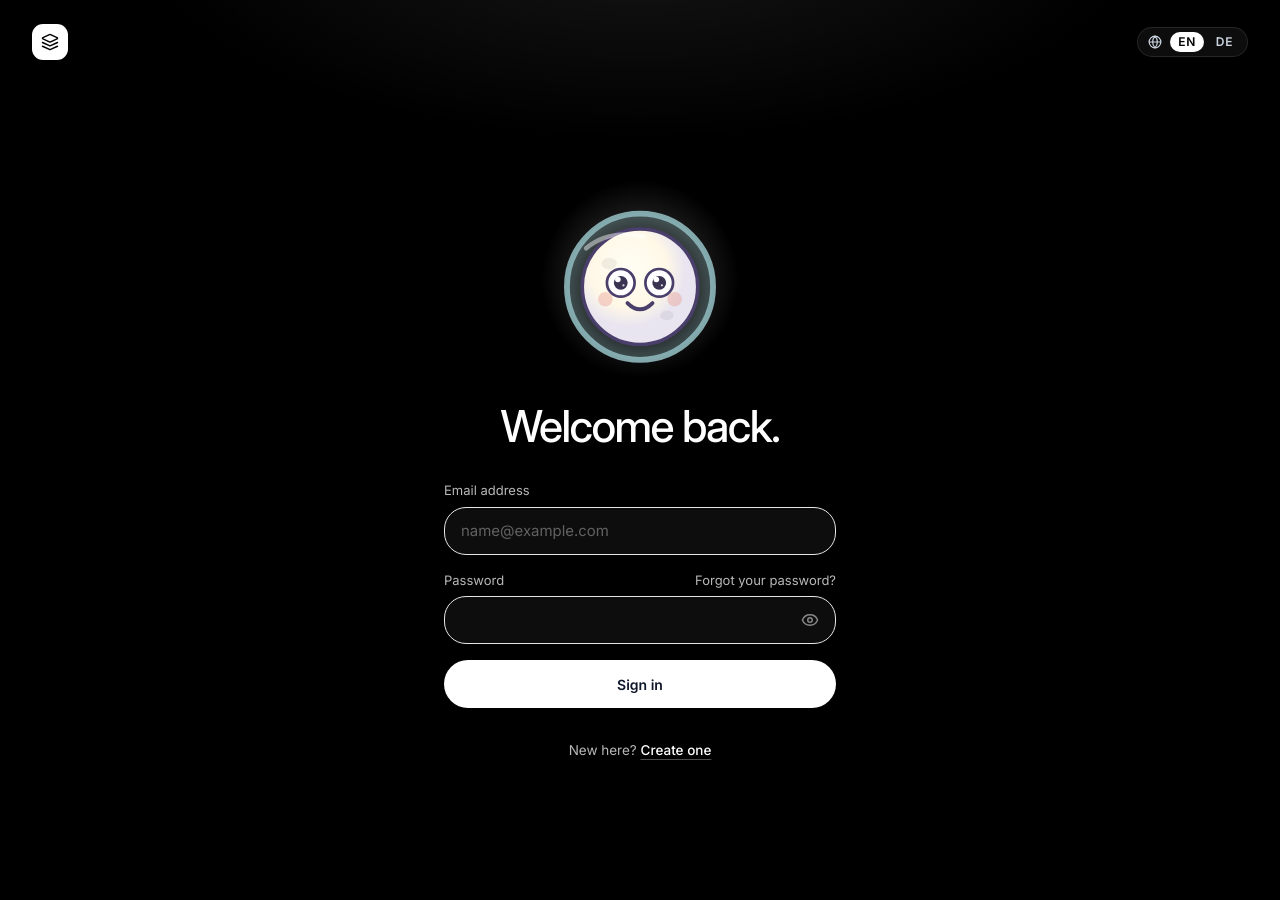
Test case: Auth page, sign-up mode › switches to sign-up from sign-in with Create one
Click the button "Create one": (676, 751) [641,740,711,761]
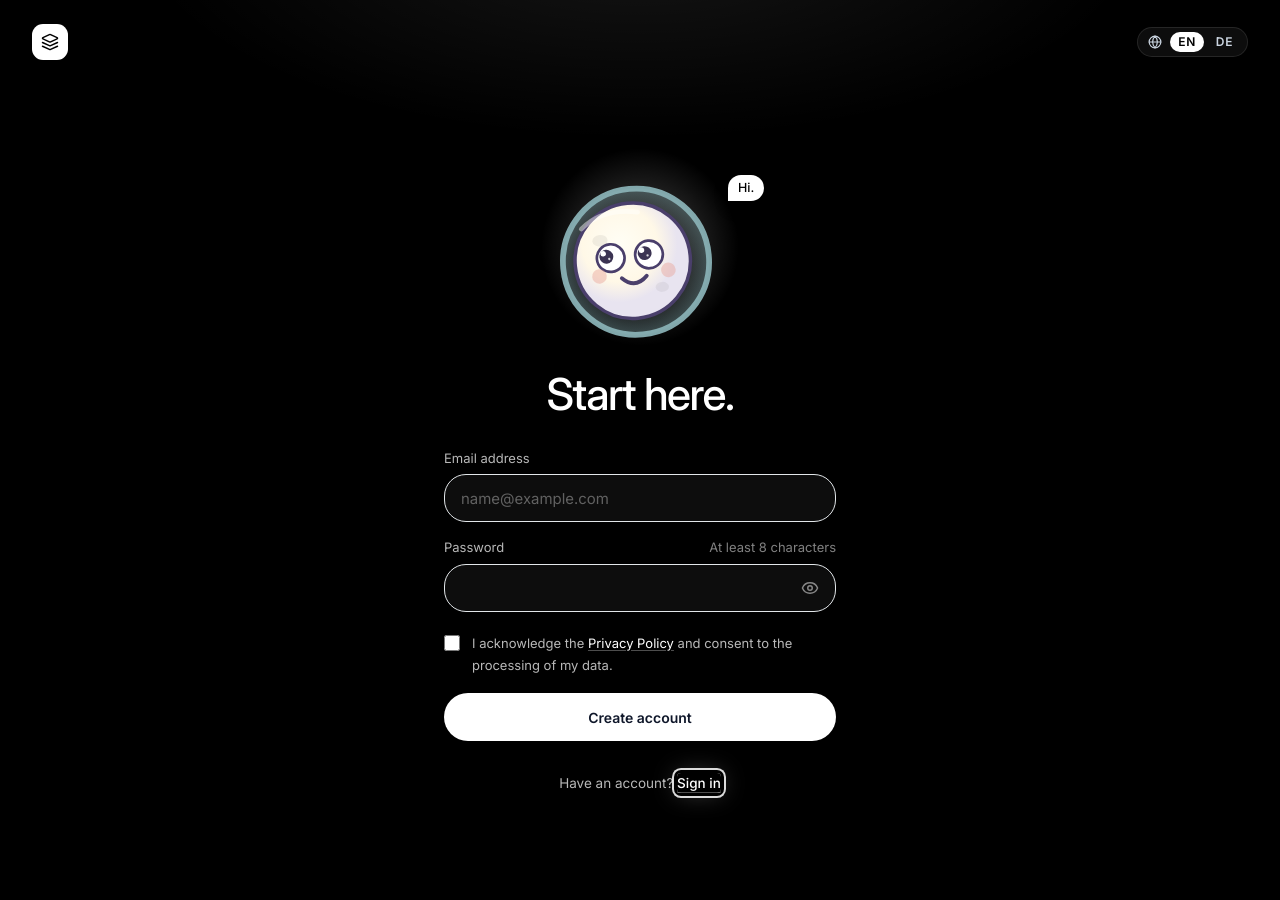
Expected: the heading "Start here." is shown, [547,366,734,420]
Expected: the checkbox is shown, [444,635,460,651]
